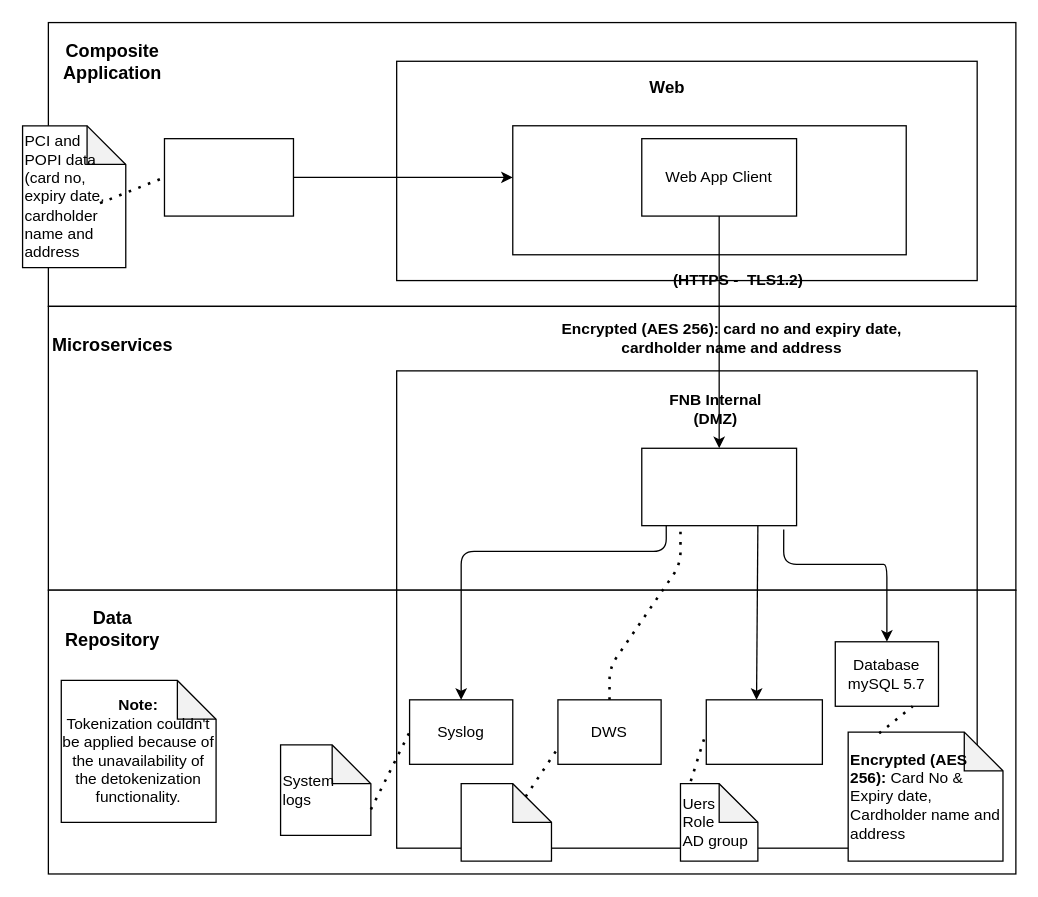
The diagram is 1038 pixels wide and 897 high, and some of its shapes have lost their labels. Each missing label, with the centre of its shape:
"Credit Card details" belongs at point (228, 176).
"Keycloak" belongs at point (763, 731).
"Merchant data" belongs at point (505, 821).
"Web App Core" belongs at point (718, 486).
